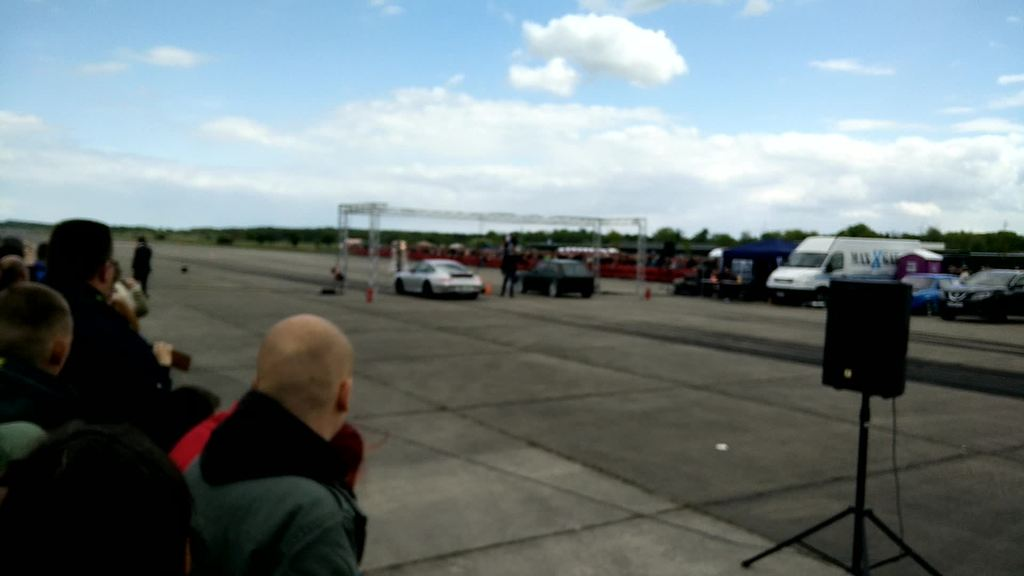Car: (936, 255, 1022, 315), (510, 257, 595, 300), (393, 261, 486, 298), (903, 271, 958, 311)
